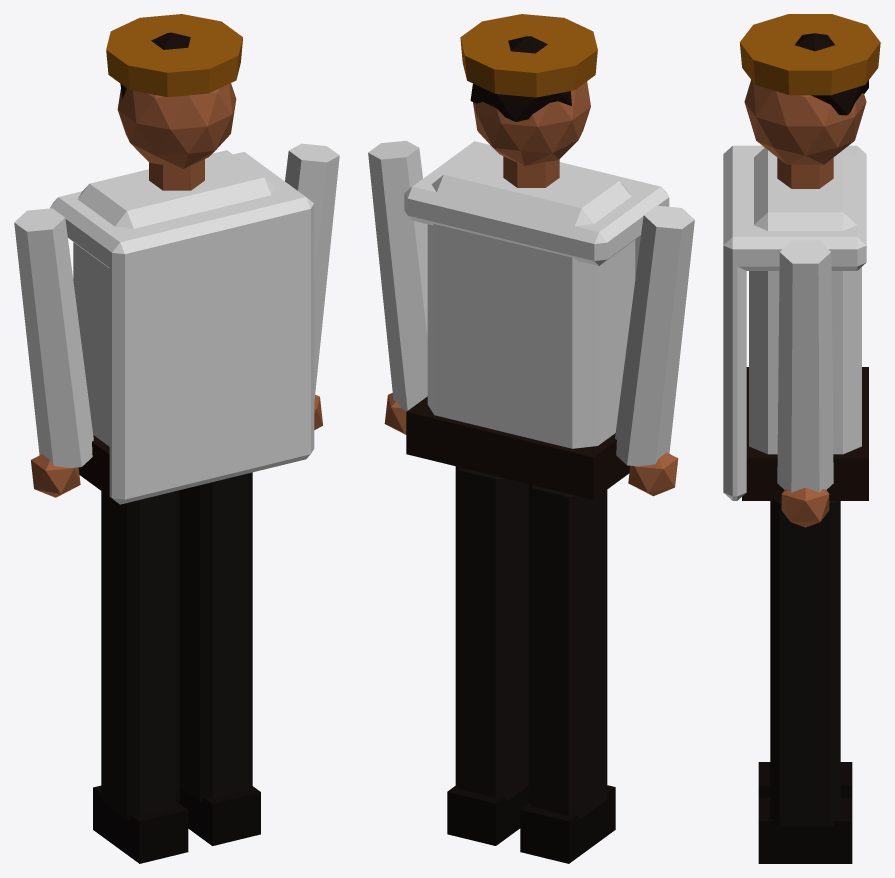
File: person_lord.fbx
3 views of the same model, side by side, from view 1: azimuth 30°, elevation 25°; view 2: azimuth 150°, elevation 25°; view 3: azimuth 270°, elevation 25° (orthographic).
Visible parts, largest first — view 1: person_lord; view 2: person_lord; view 3: person_lord.
Boxes of the visible parts, x1,y1,x2,y2 form: person_lord: [14, 14, 339, 863]; person_lord: [368, 14, 694, 863]; person_lord: [723, 14, 880, 863].
Size of the model in its own units: 0.7734 by 1.88 by 0.335.
